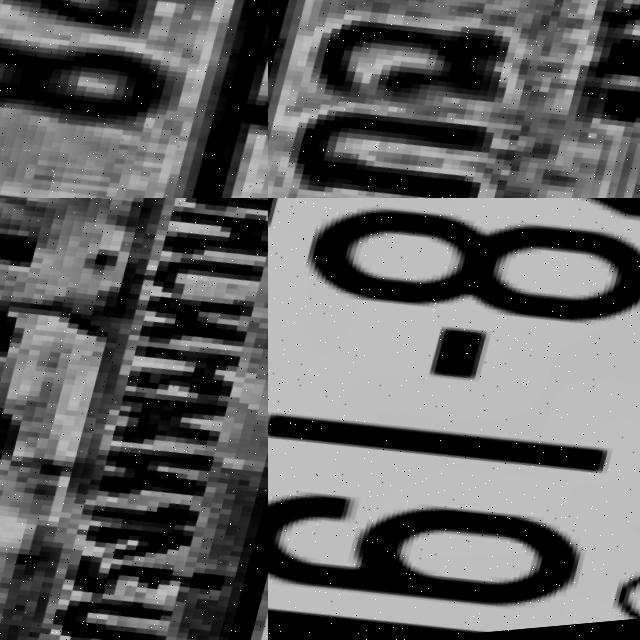license-plate: (268, 198, 640, 640), (0, 198, 268, 640), (268, 0, 640, 198), (0, 0, 268, 198)
